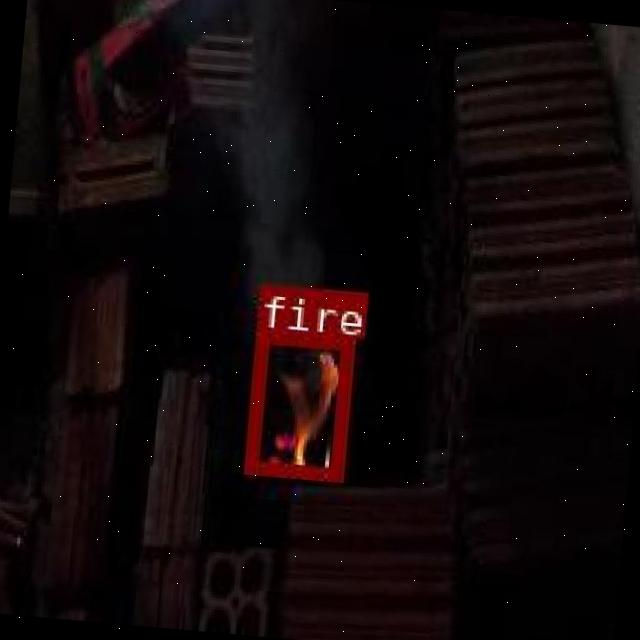fire: (244, 328, 352, 479)
